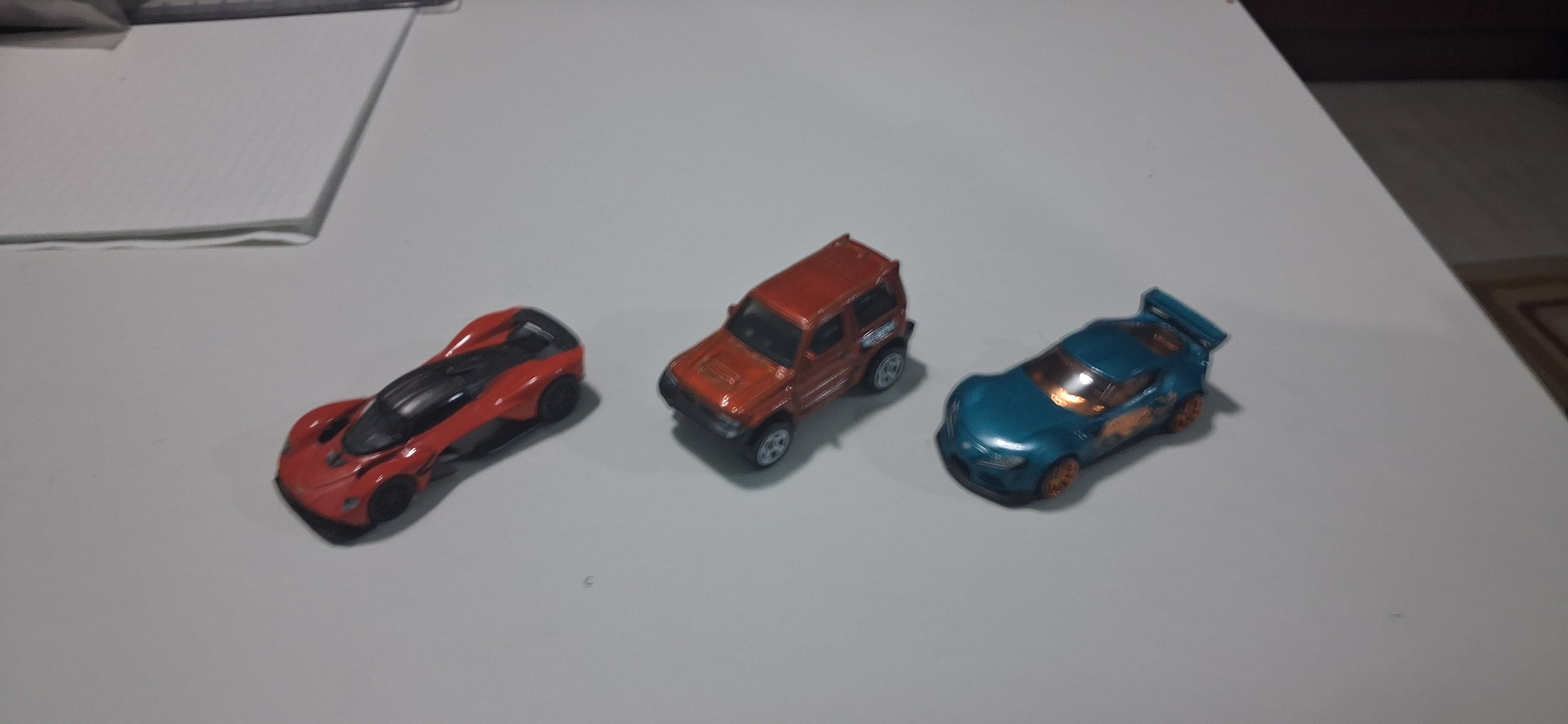Aston_Martin_Valkyrie: (262, 248, 601, 566)
Mitsubishi_Pajero_Evolution: (644, 204, 964, 510)
Toyota_GR_Supra: (920, 285, 1266, 533)
